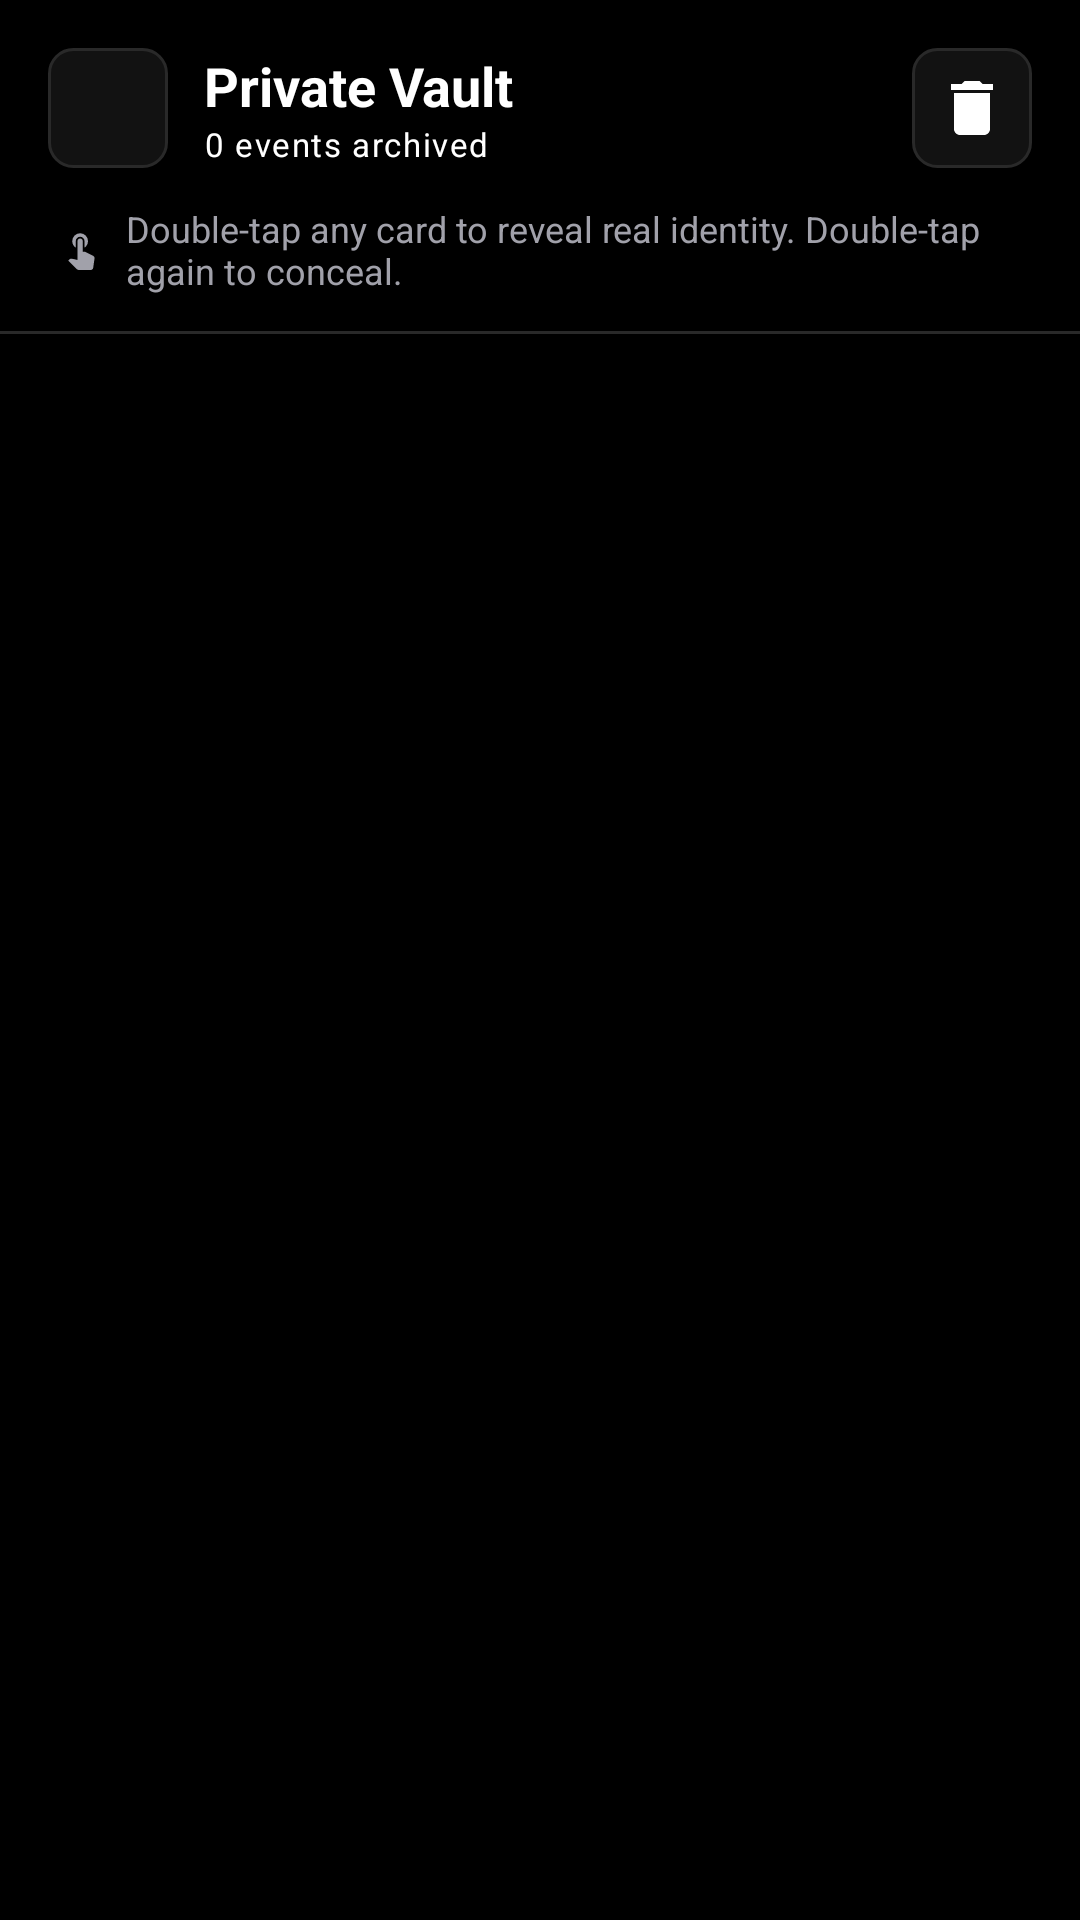

Icons on this 1080×1920 Android screen, each with the point to tap as (x,y):
Purge Vault: (972,108)
